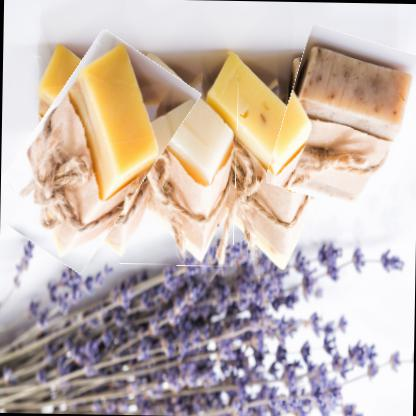soap: (5, 33, 177, 268), (118, 50, 238, 266), (274, 30, 415, 210)
